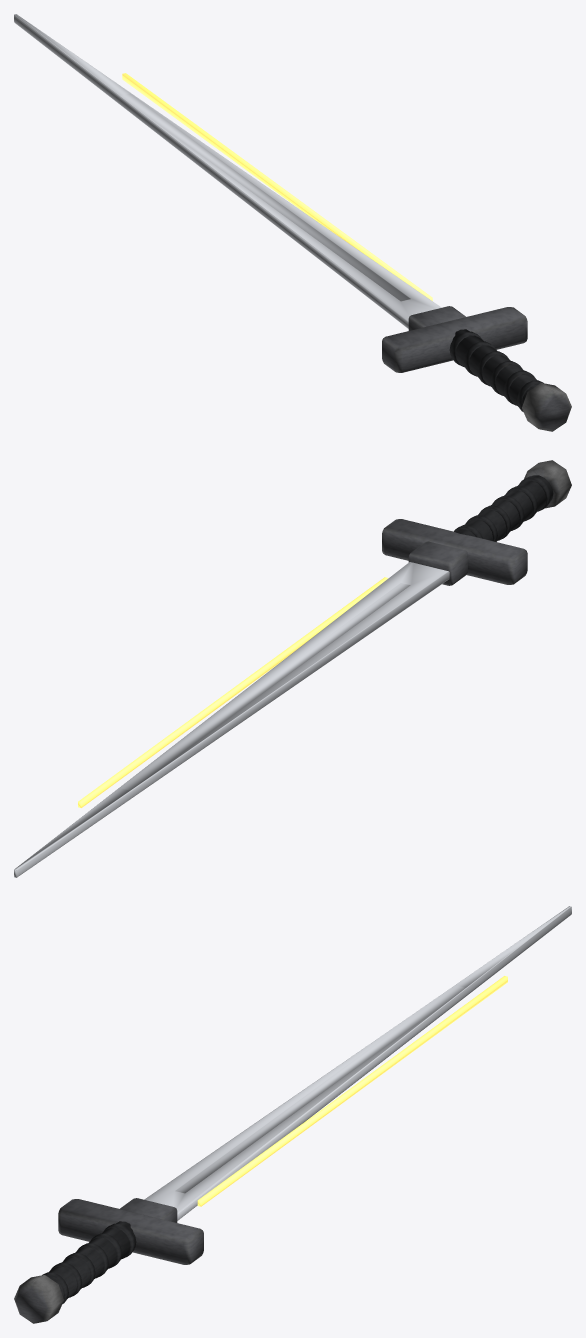
Rendered from sword-legacy.glb.
The picture shows the model from 3 angles, top to bottom: view 1: azimuth 30°, elevation 25°; view 2: azimuth 150°, elevation 25°; view 3: azimuth 330°, elevation 25°; orthographic projection.
Parts seen in each view (by area): view 1: SwordBlade, SwordBody, SwordAccent; view 2: SwordBlade, SwordBody, SwordAccent; view 3: SwordBlade, SwordBody, SwordAccent.
Boxes of the visible parts, box(x1,y1,x2,y2) form: SwordBlade: box(14, 14, 441, 328); SwordBody: box(382, 306, 571, 431); SwordAccent: box(122, 73, 432, 300); SwordBlade: box(14, 562, 449, 877); SwordBody: box(382, 460, 571, 585); SwordAccent: box(78, 577, 388, 807); SwordBlade: box(144, 906, 571, 1220); SwordBody: box(14, 1198, 203, 1323); SwordAccent: box(197, 976, 507, 1206).
Bounding box in the file's own units: 0.15 × 0.044 × 1.05.
3 materials, 1 textured.
